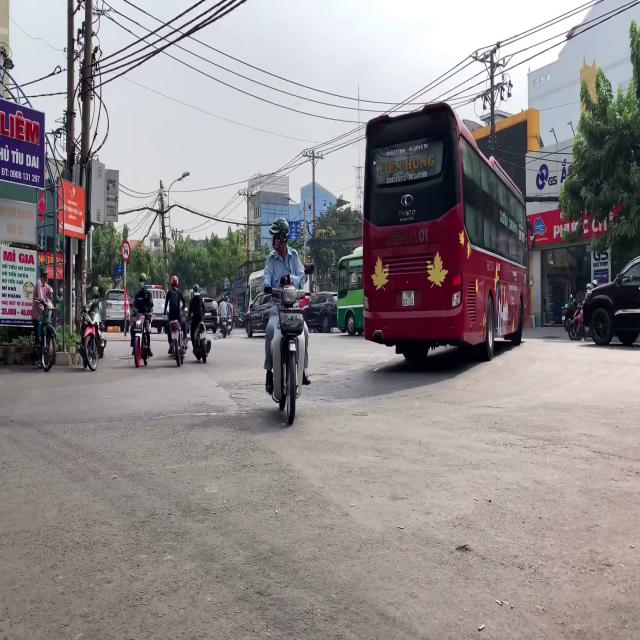bien_trang: (402, 290, 414, 308)
